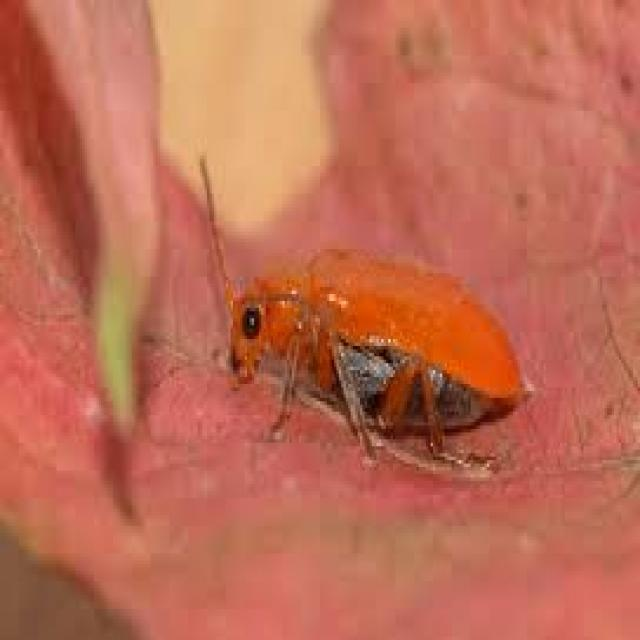Pumpkin Beetle: (194, 133, 547, 483)
